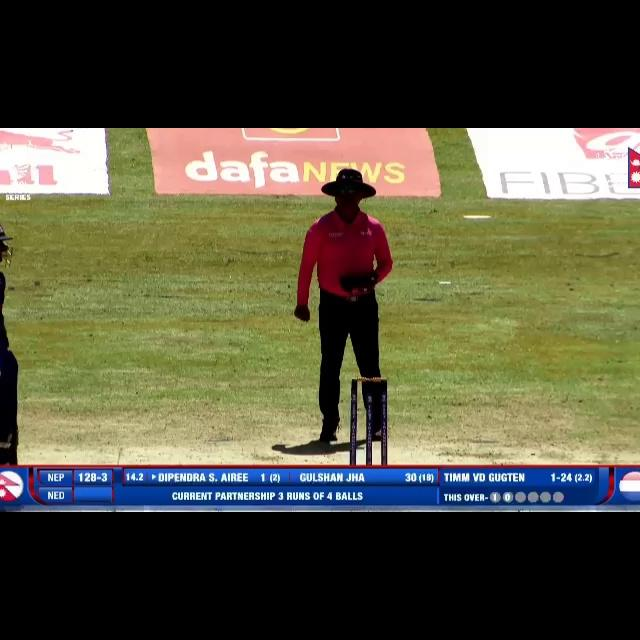umpire: (286, 153, 408, 446)
